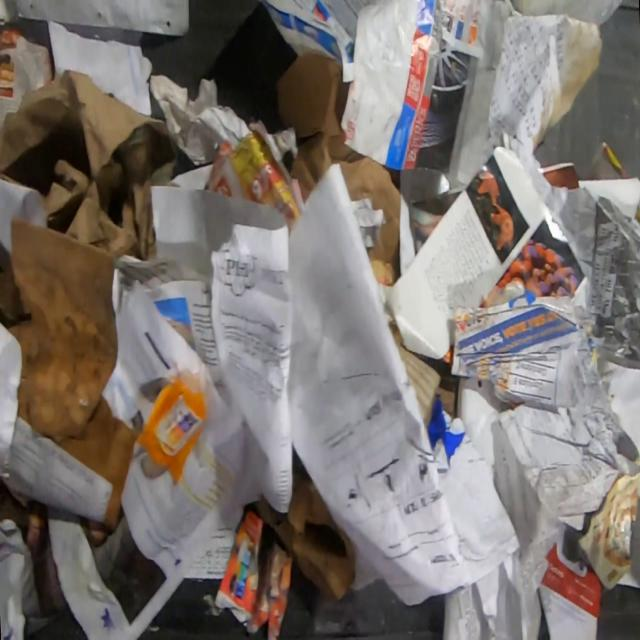cardboard: (0, 215, 140, 548), (275, 52, 400, 287), (252, 473, 355, 604), (211, 508, 293, 640), (389, 322, 443, 431), (436, 377, 458, 420)
soft_plastic: (136, 374, 208, 488), (511, 0, 624, 38)
